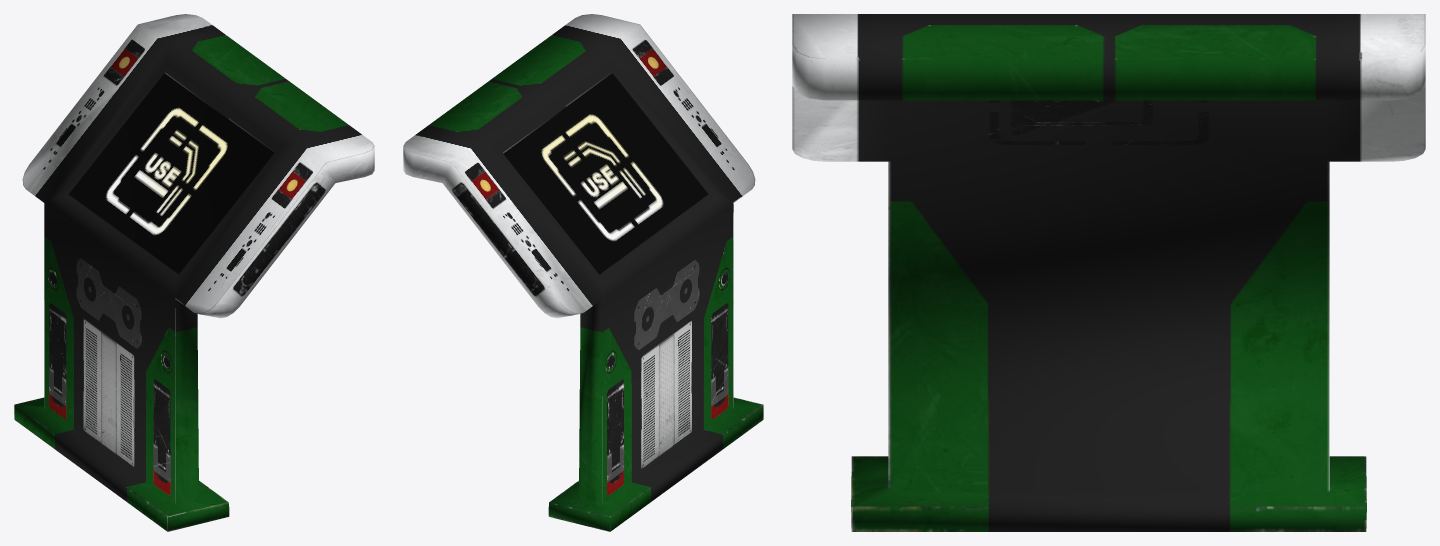
3 views of the same model, side by side, from view 1: azimuth 30°, elevation 25°; view 2: azimuth 150°, elevation 25°; view 3: azimuth 270°, elevation 25° (orthographic). The views are drawn at different scales.
Parts seen in each view (by area): view 1: BenchCat_Low; view 2: BenchCat_Low; view 3: BenchCat_Low.
Part boxes in pixels (bbox=[...]): BenchCat_Low: bbox=[14, 14, 374, 531]; BenchCat_Low: bbox=[403, 14, 763, 531]; BenchCat_Low: bbox=[792, 14, 1425, 531].
Size of the model in its own units: 3.23 by 5.45 by 5.37.
Materials: 1 (1 with a texture image).
